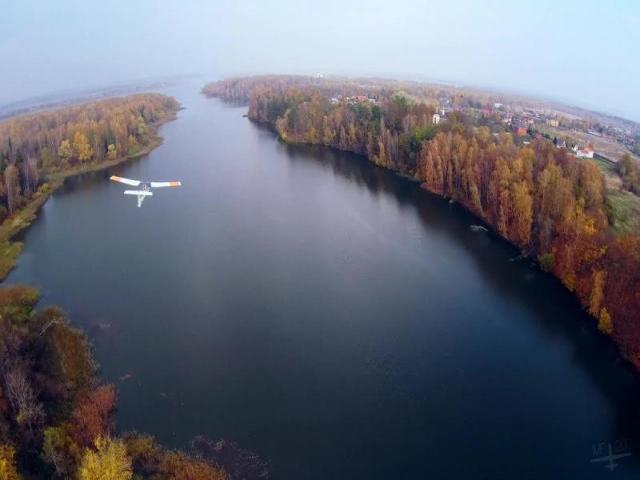hedef: (108, 168, 182, 216)
